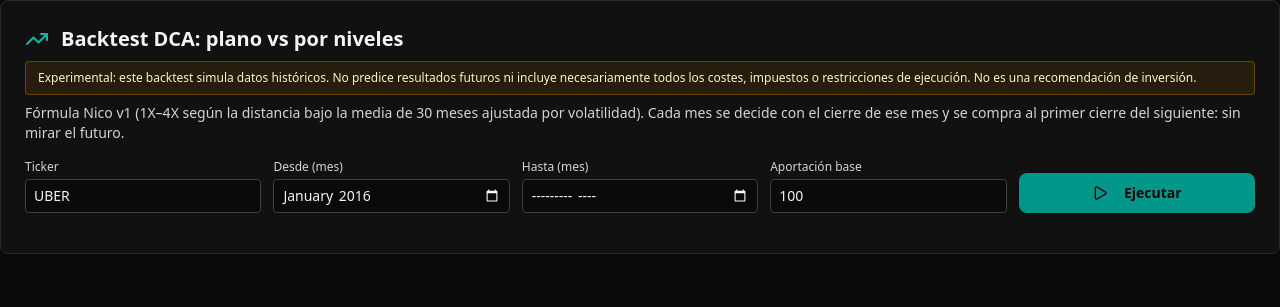
it: DcaBacktestPanel aportación base › corregir el valor limpia el aviso y ejecuta
Replace the text in the field labelled "Aportación base" with "abc" at (888, 196), box 770,179 -> 1007,213
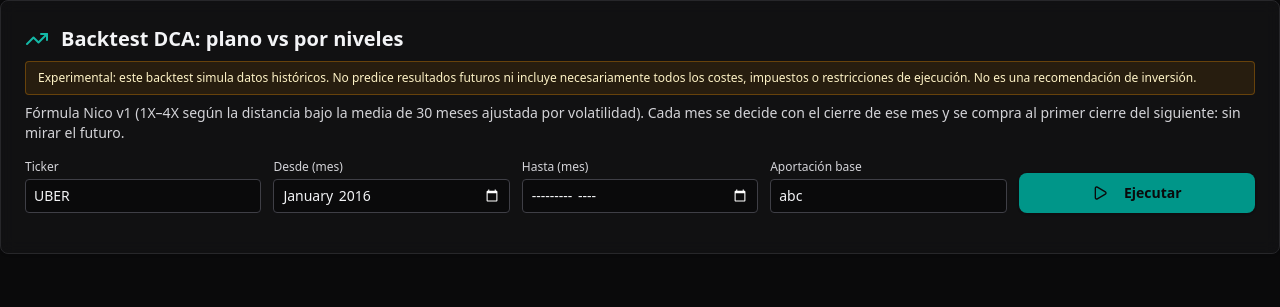
Submit the form "Ticker Desde (mes) Hasta (mes) Aportación base Ejecutar", box 25,159 -> 1255,213
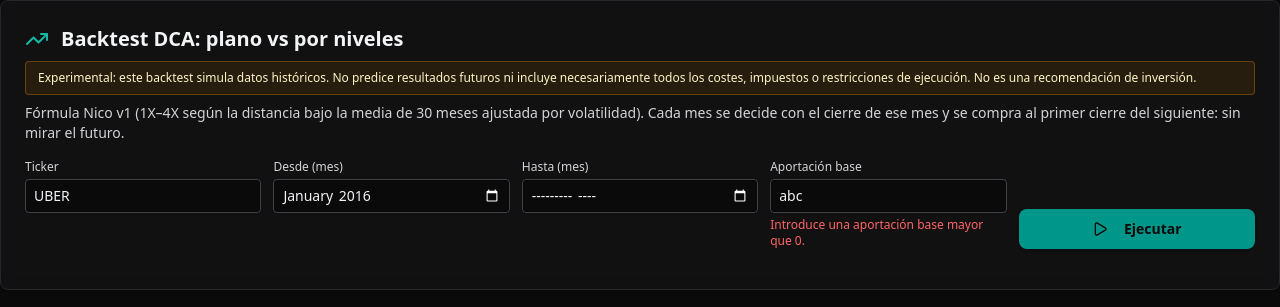
Expected: the message "Introduce una aportación base mayor que 0." is shown, 770,217 -> 1007,249
Replace the text in the field labelled "Aportación base Introduce una aportación base mayor que 0." with "250" at (888, 196), box 770,179 -> 1007,213
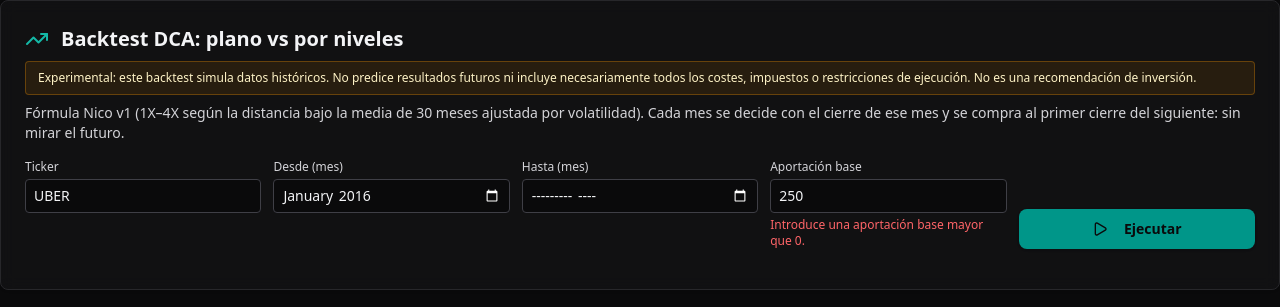
Submit the form named "ejecutar", box 25,159 -> 1255,249
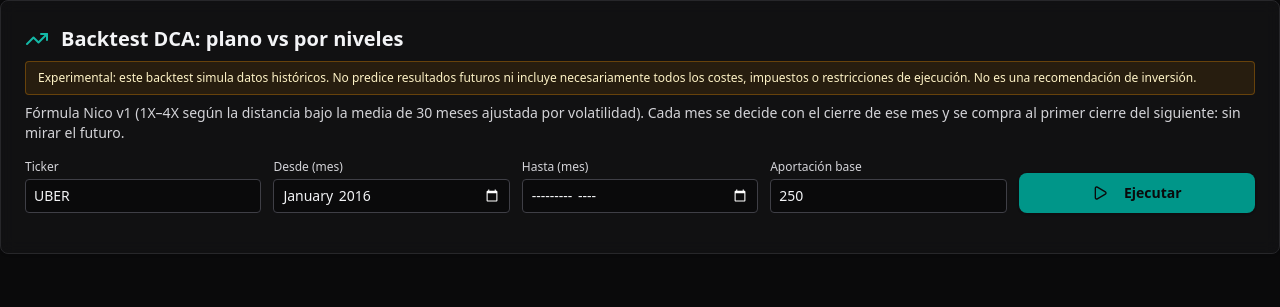
Expected: the message "Introduce una aportación base mayor que 0." is gone
